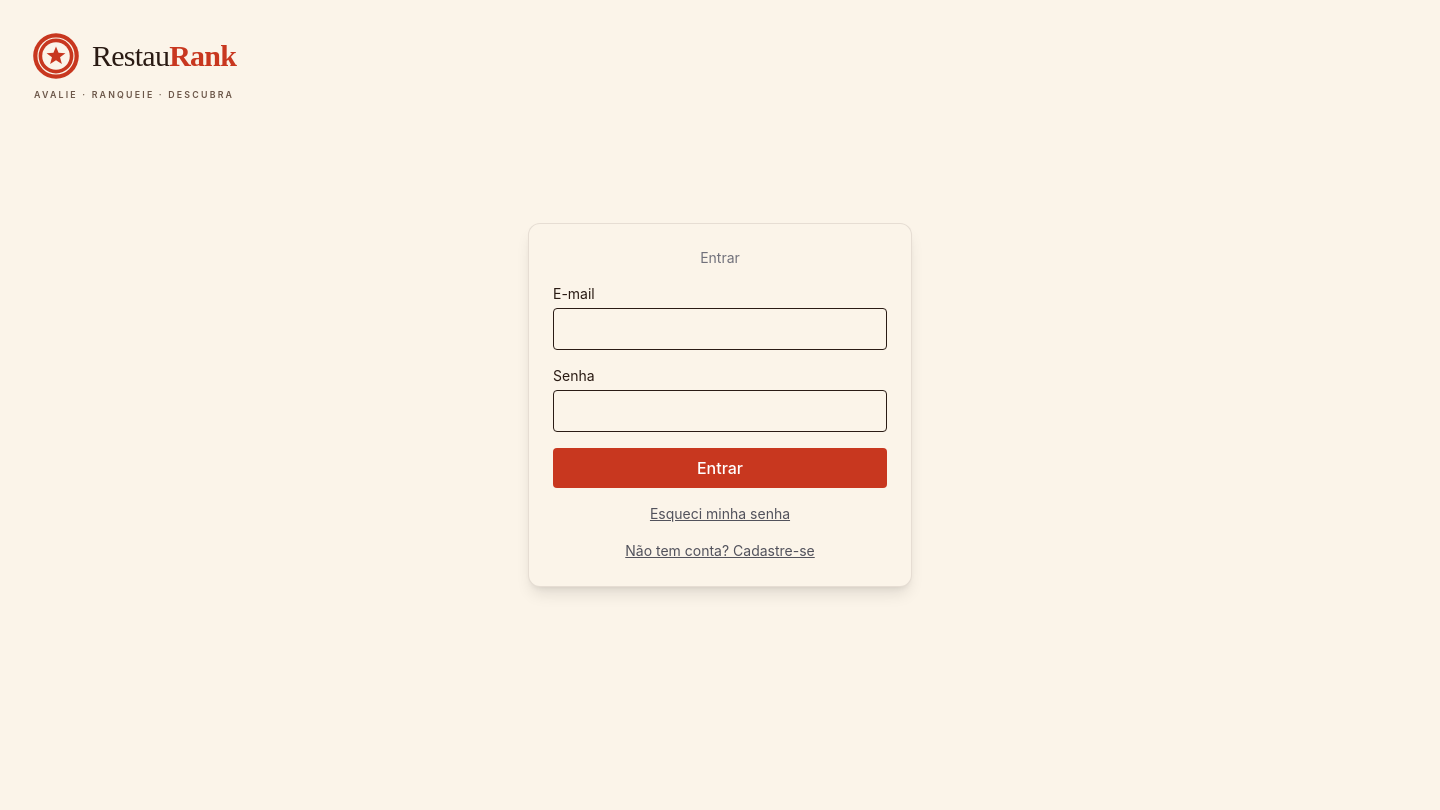
Test: integração da aplicação autenticada › a busca de restaurante no perfil retorna à home e aplica o termo
Type "ana@example.com" into the field labelled "E-mail" at (720, 329), box x1=553 y1=308 x2=887 y2=350
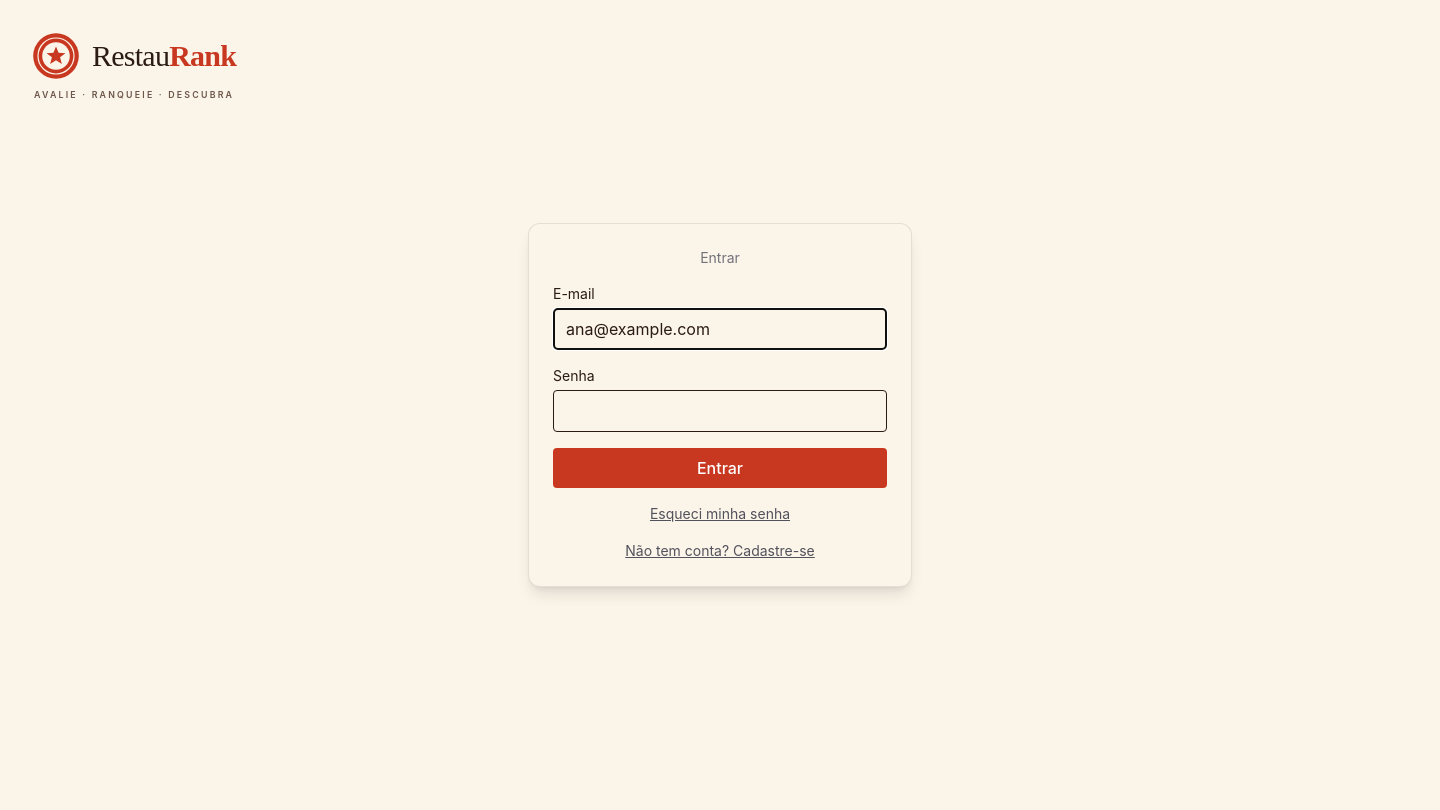
Type "senha" into the password field labelled "Senha" at (720, 411), box x1=553 y1=390 x2=887 y2=432
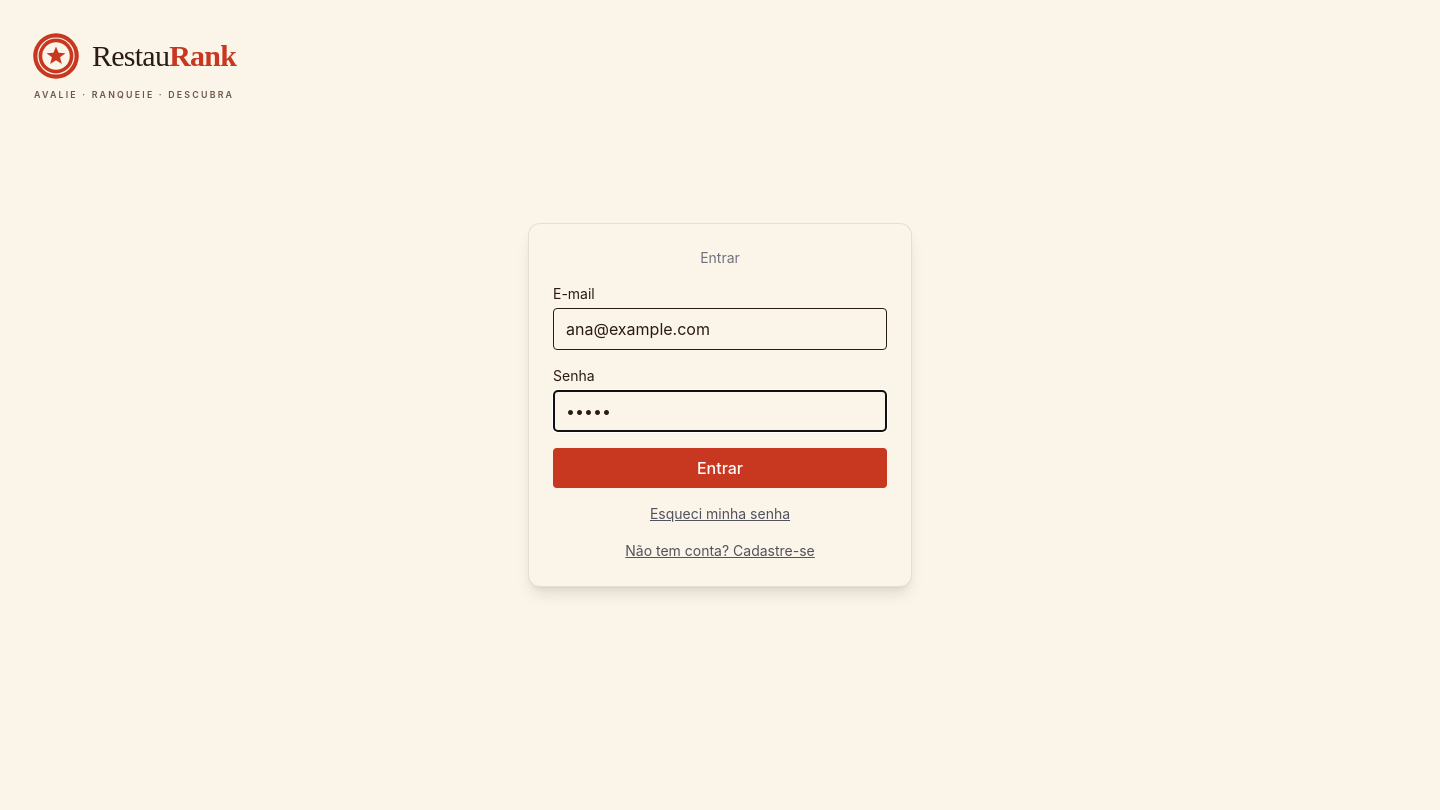
Click the button "Entrar" at (720, 468), box x1=553 y1=448 x2=887 y2=488
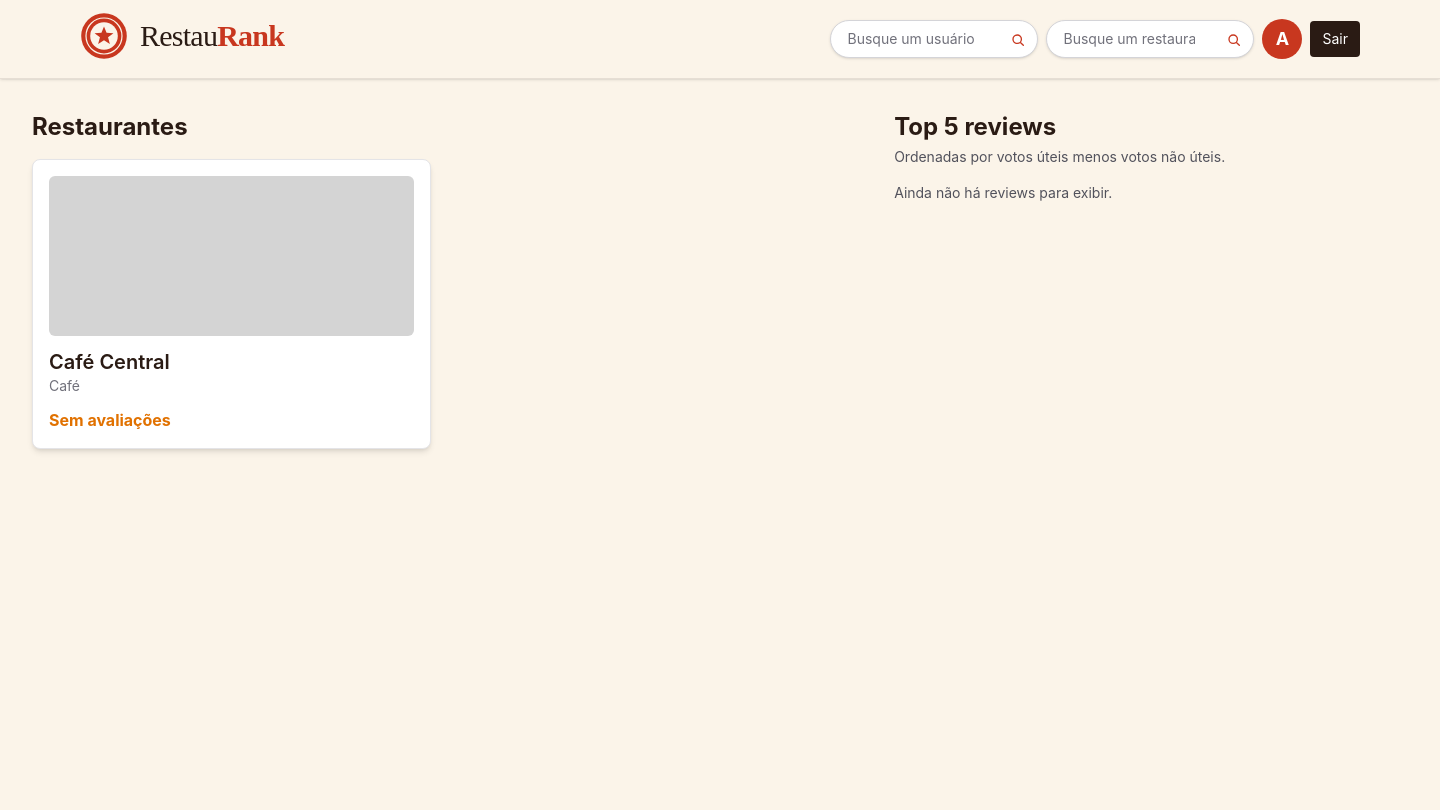
Now the search field labelled "Busque um restaurante" is shown, box x1=1046 y1=20 x2=1254 y2=58
Click the button named "Meu perfil" at (1282, 39), box x1=1262 y1=19 x2=1302 y2=59
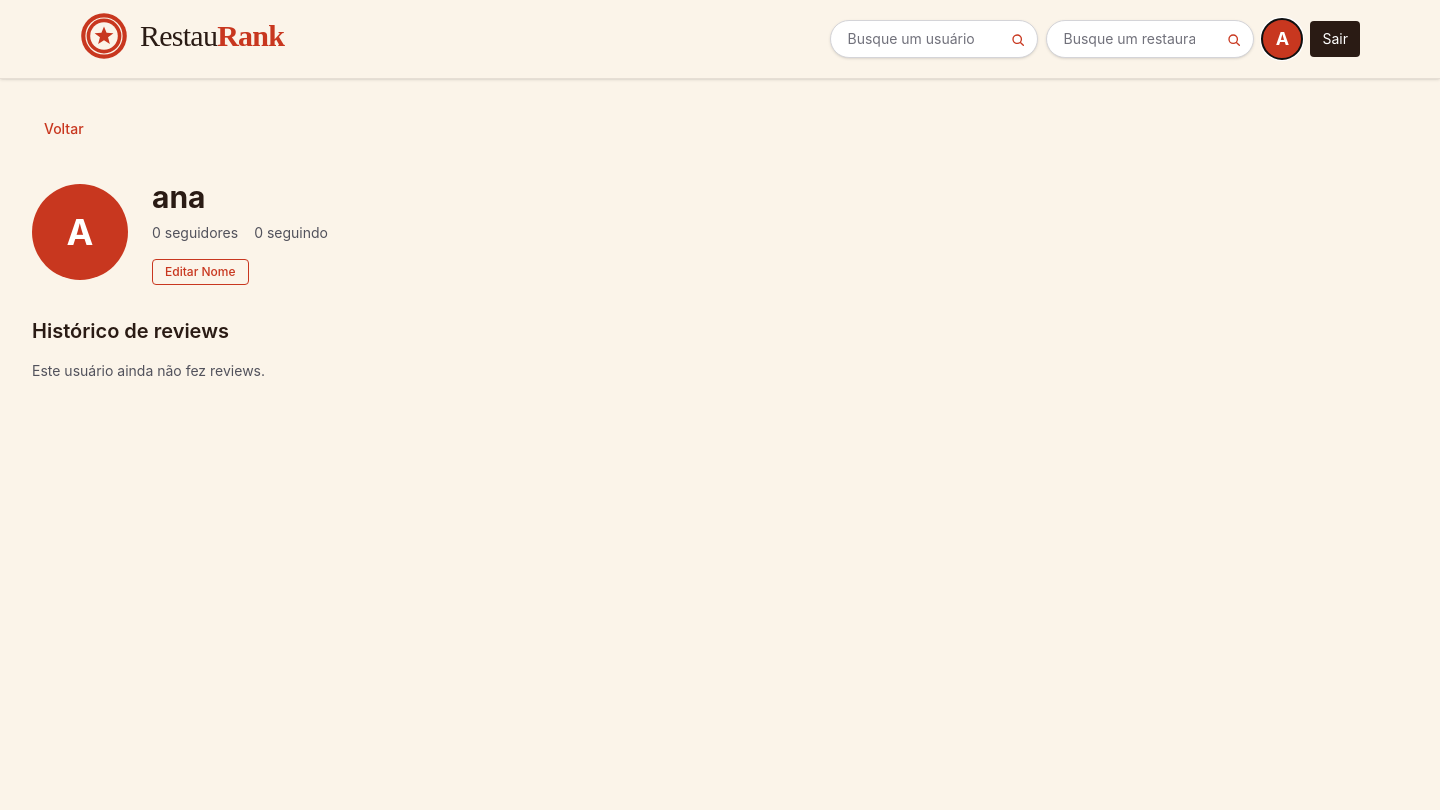
Now the heading "ana" is shown, box x1=152 y1=179 x2=206 y2=215
Type "Cafe" into the search field labelled "Busque um restaurante" at (1150, 39), box x1=1046 y1=20 x2=1254 y2=58
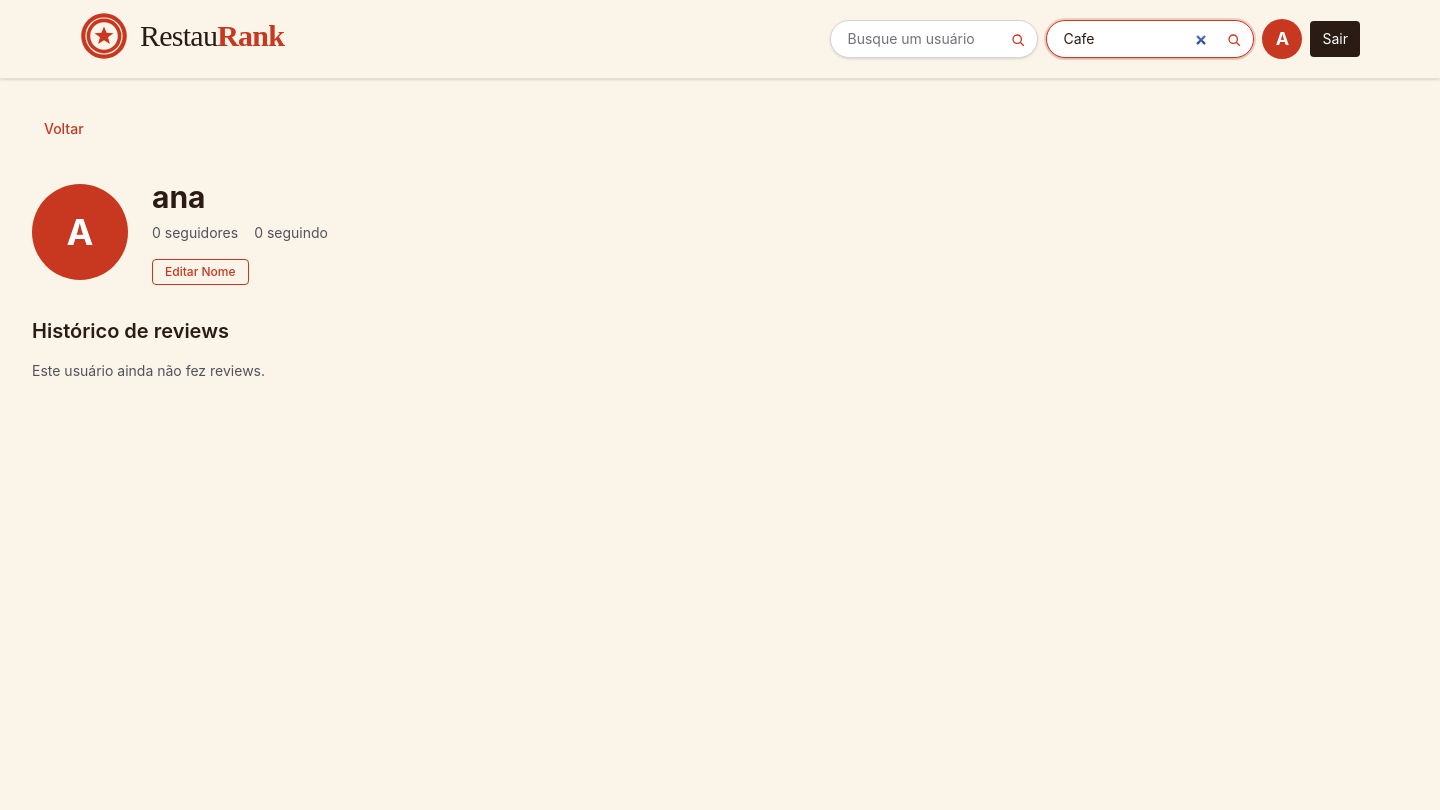
Click the button named "Buscar restaurante" at (1234, 40), box x1=1218 y1=24 x2=1250 y2=56
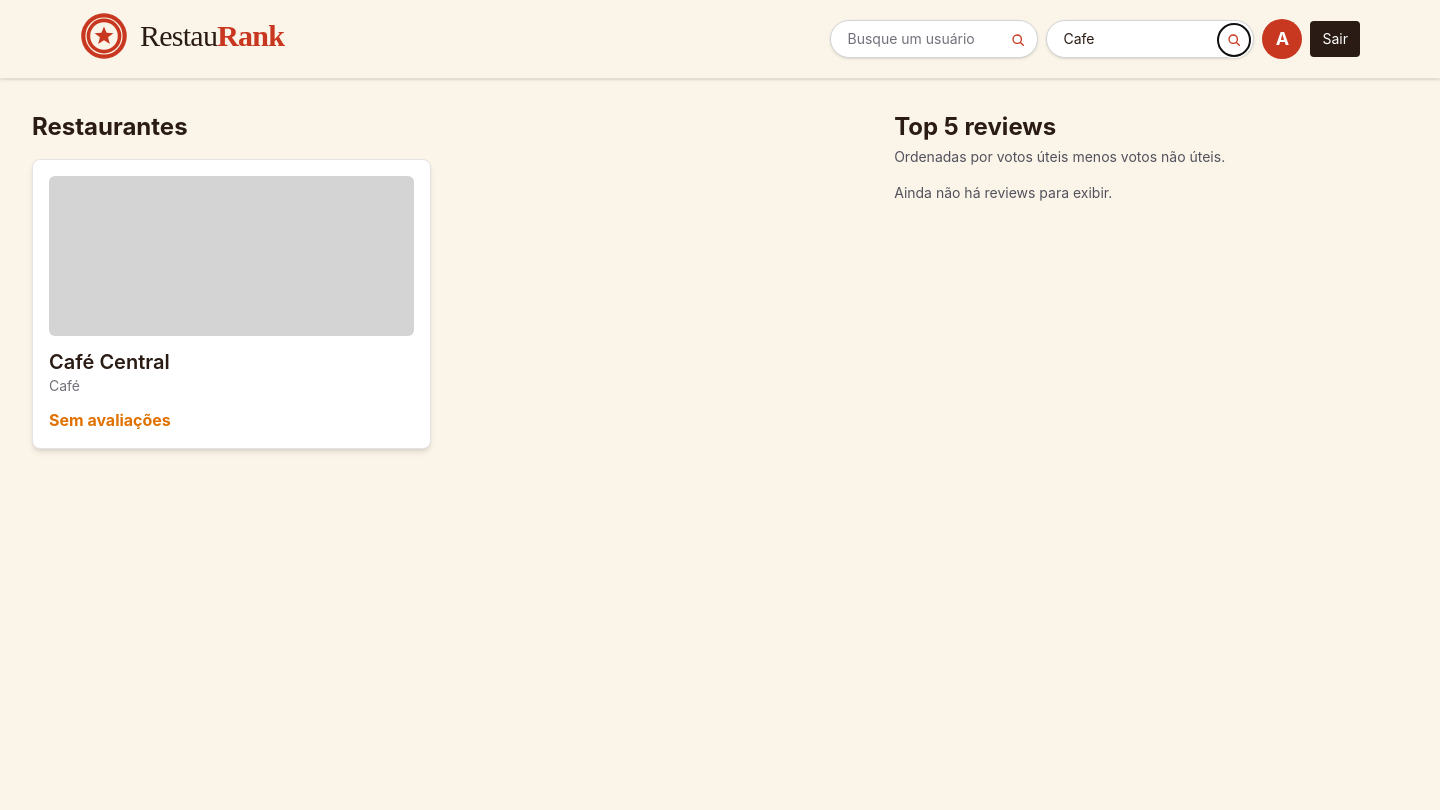
Now the heading "Restaurantes" is shown, box x1=32 y1=112 x2=188 y2=141
